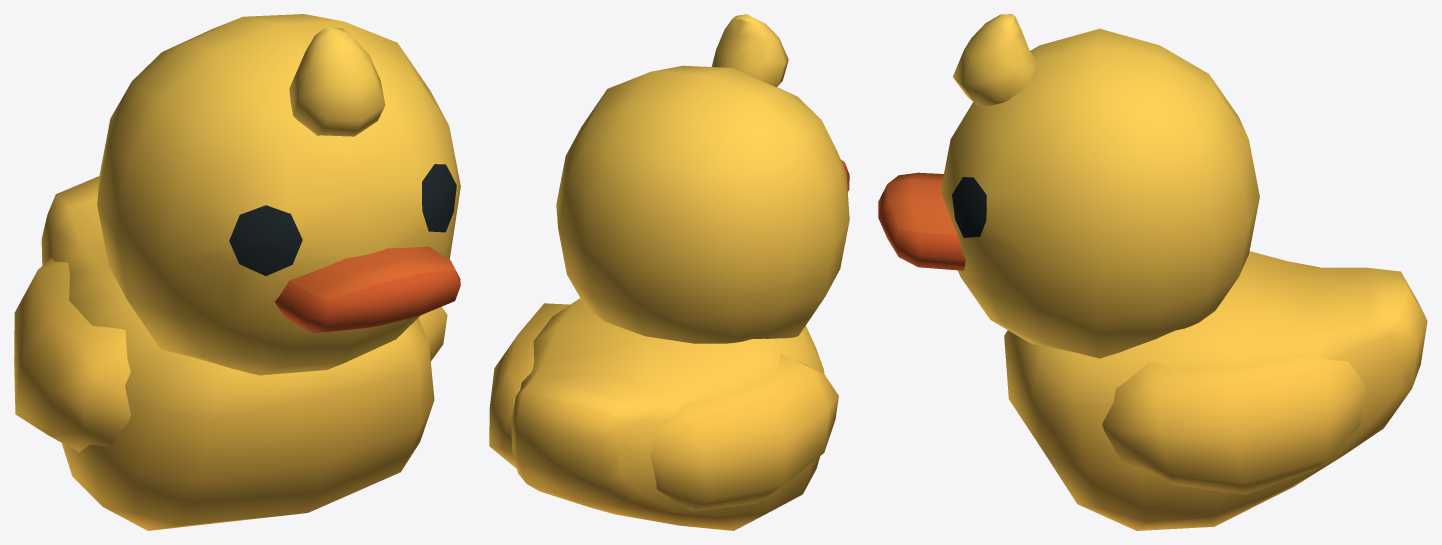
Rendered from ducky.glb.
3 renders of one model, left to right at view 1: azimuth 30°, elevation 25°; view 2: azimuth 150°, elevation 25°; view 3: azimuth 270°, elevation 25°, orthographic. The views are drawn at different scales.
Visible parts, largest first — view 1: ducky; view 2: ducky; view 3: ducky.
Boxes of the visible parts, x1=… form: ducky: x1=14, y1=14, x2=460, y2=530; ducky: x1=489, y1=14, x2=849, y2=530; ducky: x1=878, y1=14, x2=1427, y2=530.
Bounding box in the file's own units: 0.2983 × 0.403 × 0.4209.
1 material, 1 textured.
